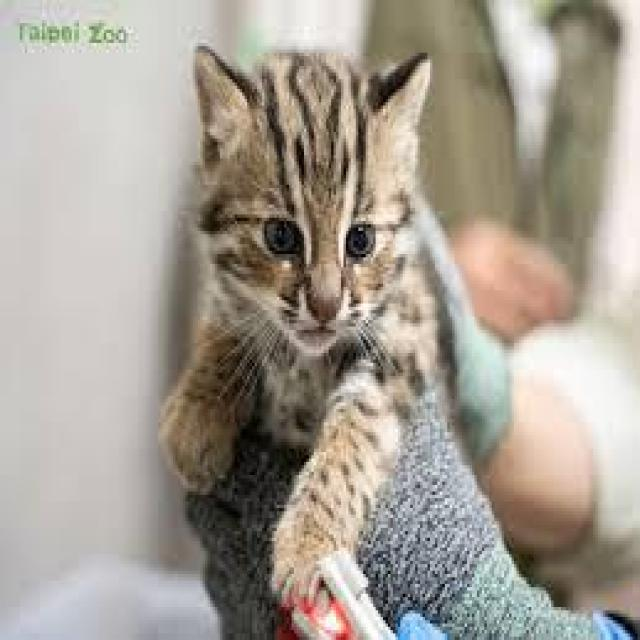leopard: (159, 48, 459, 631)
